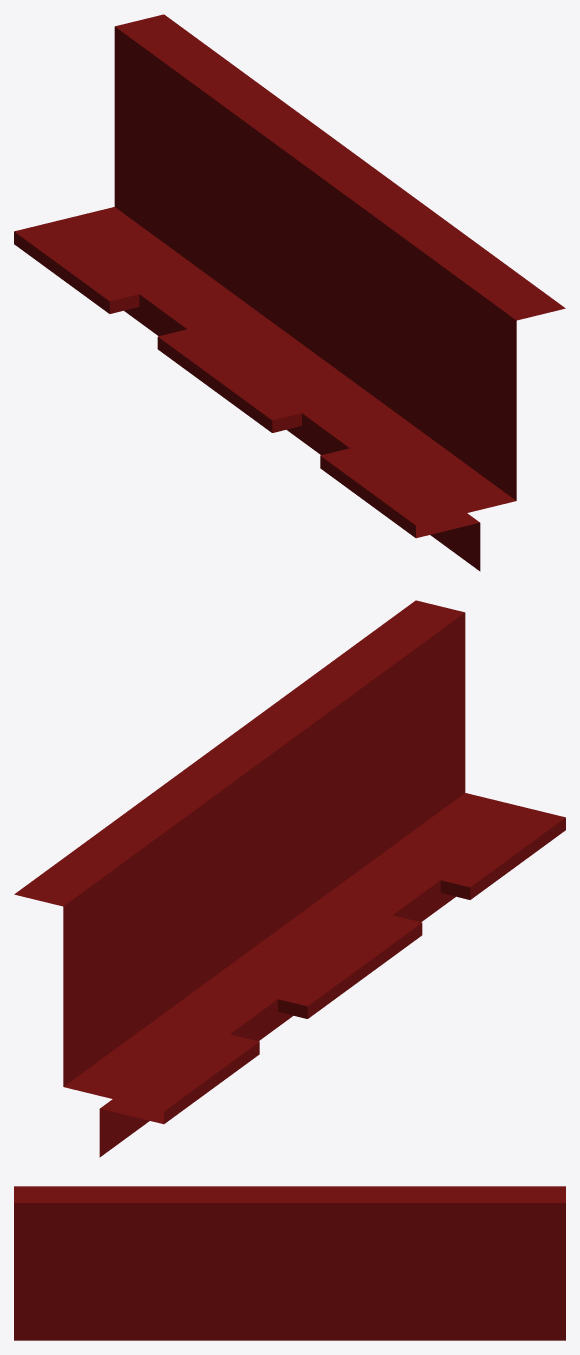
Rendered from SM_Catwalk_High_E 1.fbx.
3 renders of one model, top to bottom at view 1: azimuth 30°, elevation 25°; view 2: azimuth 150°, elevation 25°; view 3: azimuth 270°, elevation 25°, orthographic. The views are drawn at different scales.
Parts seen in each view (by area): view 1: SM_Catwalk_High_E; view 2: SM_Catwalk_High_E; view 3: SM_Catwalk_High_E.
Part boxes in pixels (bbox=[...]): SM_Catwalk_High_E: bbox=[14, 14, 565, 571]; SM_Catwalk_High_E: bbox=[14, 600, 565, 1157]; SM_Catwalk_High_E: bbox=[14, 1186, 565, 1340].
Size of the model in its own units: 28.95 by 44.63 by 134.
